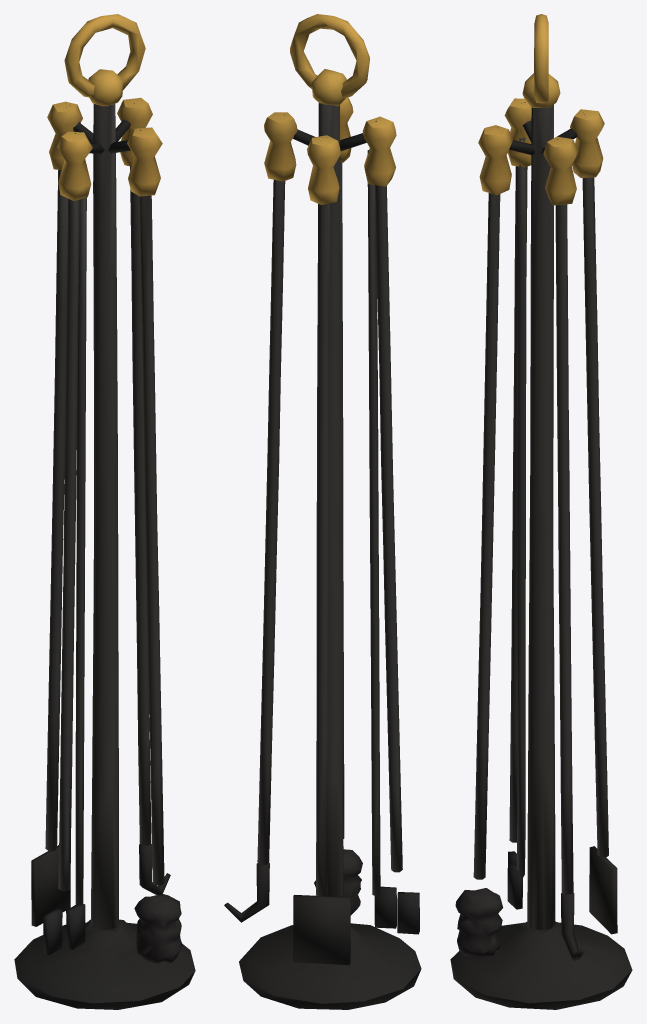
Rendered from ember_fire_irons_lod2.glb.
3 renders of one model, left to right at view 1: azimuth 30°, elevation 25°; view 2: azimuth 150°, elevation 25°; view 3: azimuth 270°, elevation 25°, orthographic.
Parts seen in each view (by area): view 1: ember_fire_irons.001; view 2: ember_fire_irons.001; view 3: ember_fire_irons.001.
Boxes of the visible parts, x1,y1,x2,y2 form: ember_fire_irons.001: (14, 14, 195, 1009); ember_fire_irons.001: (224, 14, 421, 1009); ember_fire_irons.001: (450, 14, 632, 1009).
Size of the model in its own units: 12.99 by 72.1 by 12.47.
